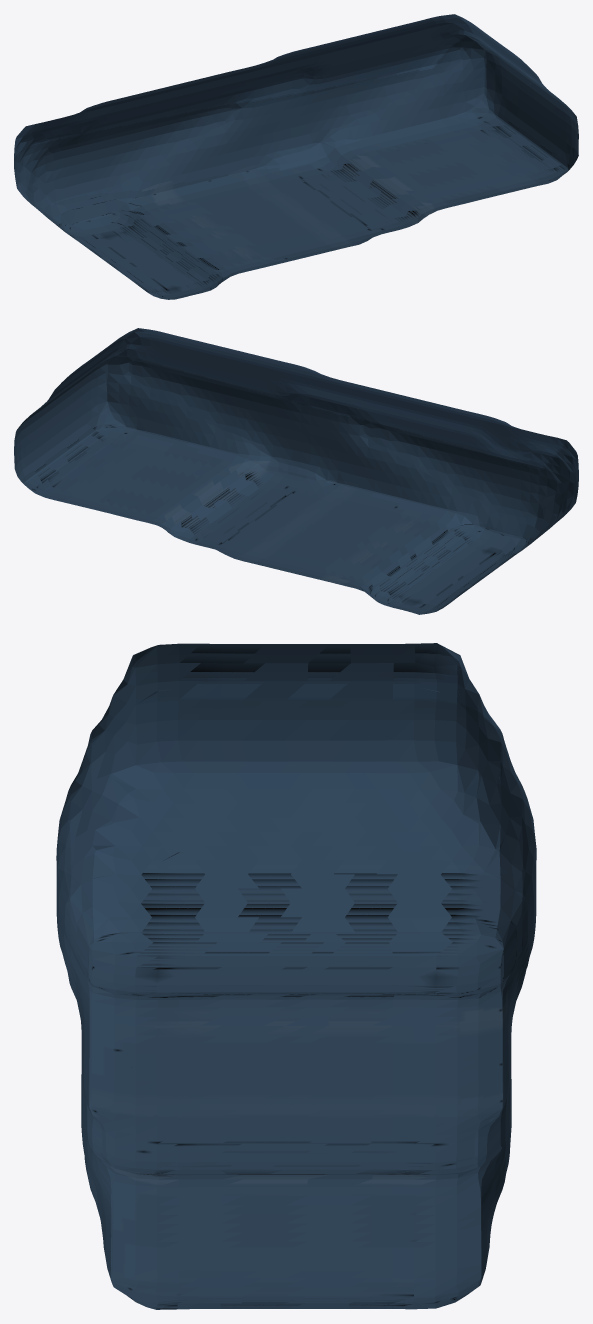
3 views of the same model, one above another, from view 1: azimuth 30°, elevation 25°; view 2: azimuth 150°, elevation 25°; view 3: azimuth 270°, elevation 25° (orthographic). The views are drawn at different scales.
Visible parts, largest first — view 1: model; view 2: model; view 3: model.
Boxes of the visible parts, <box> form: model: <box>14,14,578,299</box>; model: <box>14,328,578,614</box>; model: <box>56,643,536,1309</box>.
Bounding box in the file's own units: 1 × 0.291 × 0.4276.
Materials: 1 (1 with a texture image).
